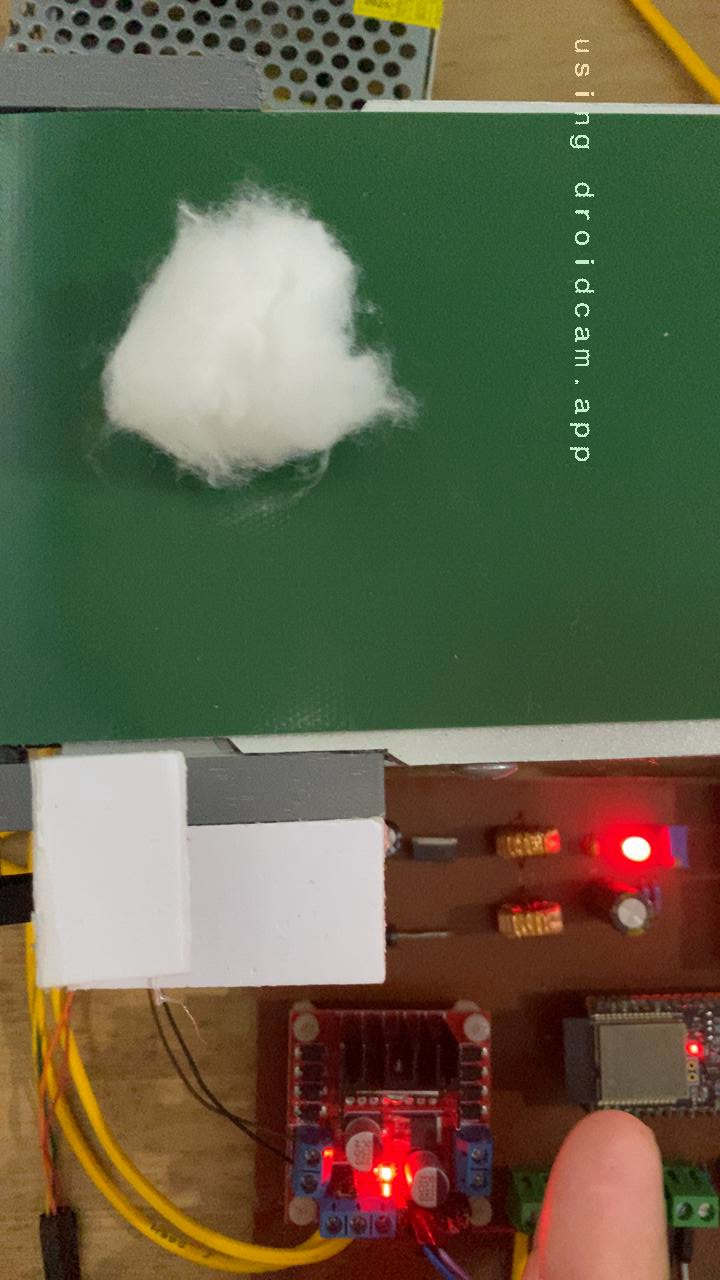cotton: (97, 188, 412, 492)
